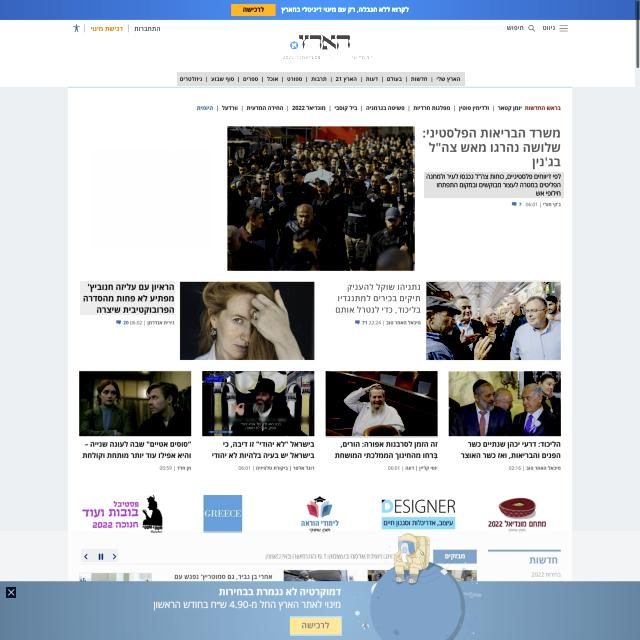CheckBox: (290, 616, 342, 636)
Input field: (424, 172, 564, 198)
ProgressBar: (0, 0, 636, 21)
bag: (0, 0, 635, 87)
breadcrumbs: (421, 126, 562, 170), (80, 281, 175, 315), (330, 282, 422, 317)
carousel: (6, 587, 16, 598)
copy: (227, 126, 413, 271), (427, 280, 561, 360), (180, 282, 314, 361), (326, 371, 438, 438), (79, 370, 191, 436), (202, 371, 314, 436), (448, 372, 561, 436)
date picker: (266, 29, 375, 64)
decoration: (195, 102, 564, 113), (177, 72, 465, 86)
dropdown: (81, 549, 118, 562)
header: (0, 531, 640, 640)
